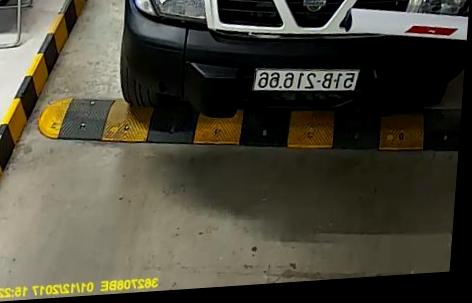License_Plate: (250, 60, 367, 98)
